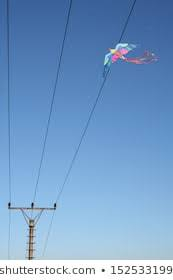kite: (98, 38, 163, 78)
